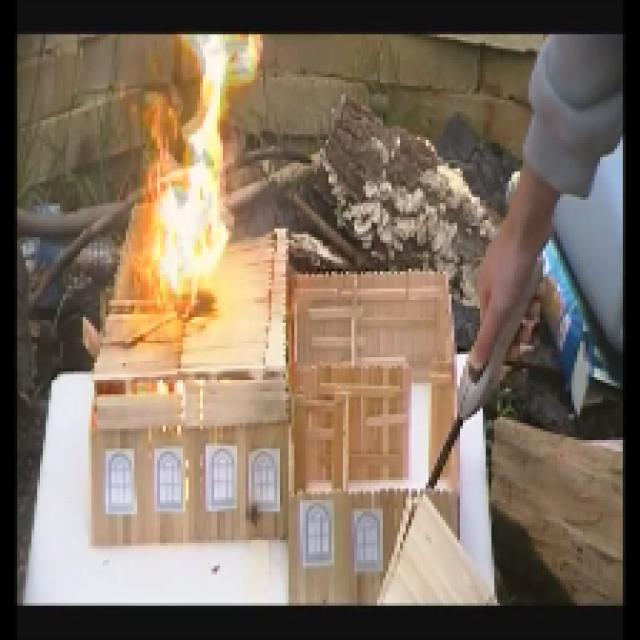fire: (142, 31, 255, 299)
